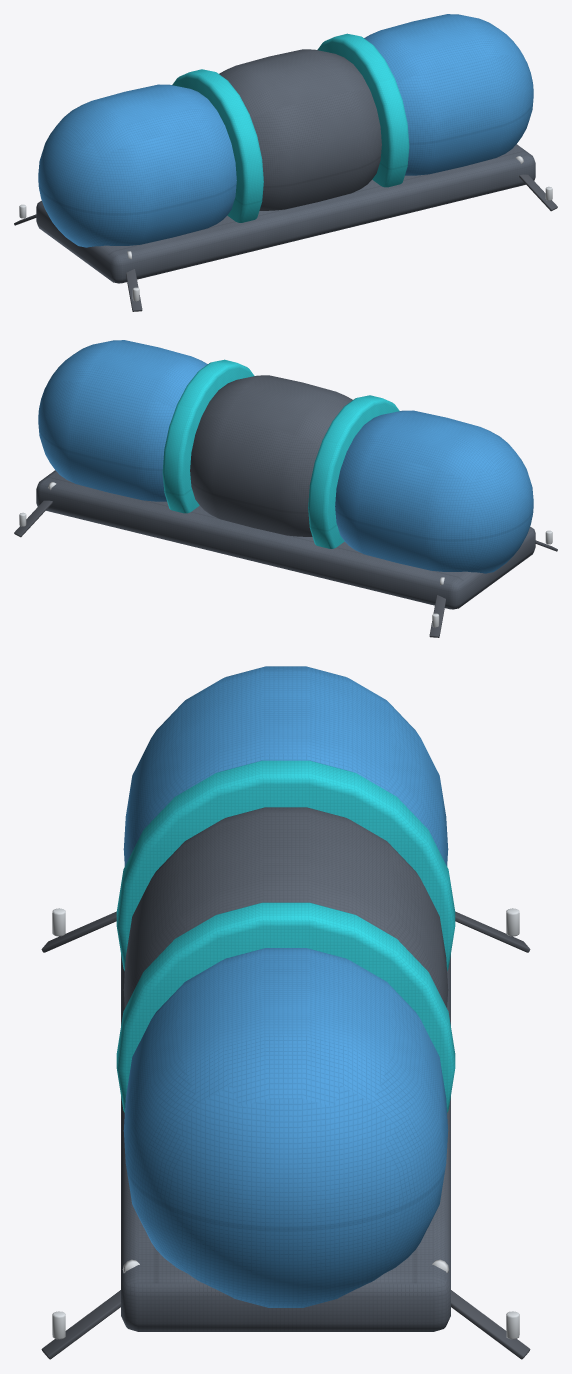
Rendered from bunker_snake_blue.glb.
3 renders of one model, top to bottom at view 1: azimuth 30°, elevation 25°; view 2: azimuth 150°, elevation 25°; view 3: azimuth 270°, elevation 25°, orthographic. The views are drawn at different scales.
Parts seen in each view (by area): view 1: SnakeSeg_0, SnakeSeg_2, SnakeSeg_1, SnakeSkirt, SnakeBand_0.58, SnakeBand_-0.58, Strap_1, Strap_0; view 2: SnakeSeg_0, SnakeSeg_2, SnakeSeg_1, SnakeSkirt, SnakeBand_0.58, SnakeBand_-0.58, Strap_2, Strap_3; view 3: SnakeSeg_2, SnakeSeg_1, SnakeSeg_0, SnakeSkirt, SnakeBand_-0.58, SnakeBand_0.58, Strap_1, Strap_2.
Part boxes in pixels (x1,y1,x2,y2): SnakeSeg_0: (38,84,236,247); SnakeSeg_2: (364,14,533,175); SnakeSeg_1: (219,49,381,210); SnakeSkirt: (36,144,535,283); SnakeBand_0.58: (317,33,409,187); SnakeBand_-0.58: (172,69,263,222); Strap_1: (519,174,557,211); Strap_0: (126,269,142,311); SnakeSeg_0: (335,410,533,573); SnakeSeg_2: (38,340,207,501); SnakeSeg_1: (190,375,352,536); SnakeSkirt: (36,470,535,609); SnakeBand_0.58: (162,359,254,513); SnakeBand_-0.58: (308,395,399,548); Strap_2: (14,500,52,537); Strap_3: (429,595,445,637); SnakeSeg_2: (123,948,448,1307); SnakeSeg_1: (123,807,448,1007); SnakeSeg_0: (123,666,448,866); SnakeSkirt: (121,954,450,1331); SnakeBand_-0.58: (116,760,455,970); SnakeBand_0.58: (116,902,455,1112); Strap_1: (41,1290,120,1359); Strap_2: (451,1290,530,1359).
Bounding box in the file's own units: 3.78 × 1.2 × 1.69.
Materials: 5 (3 with a texture image).
